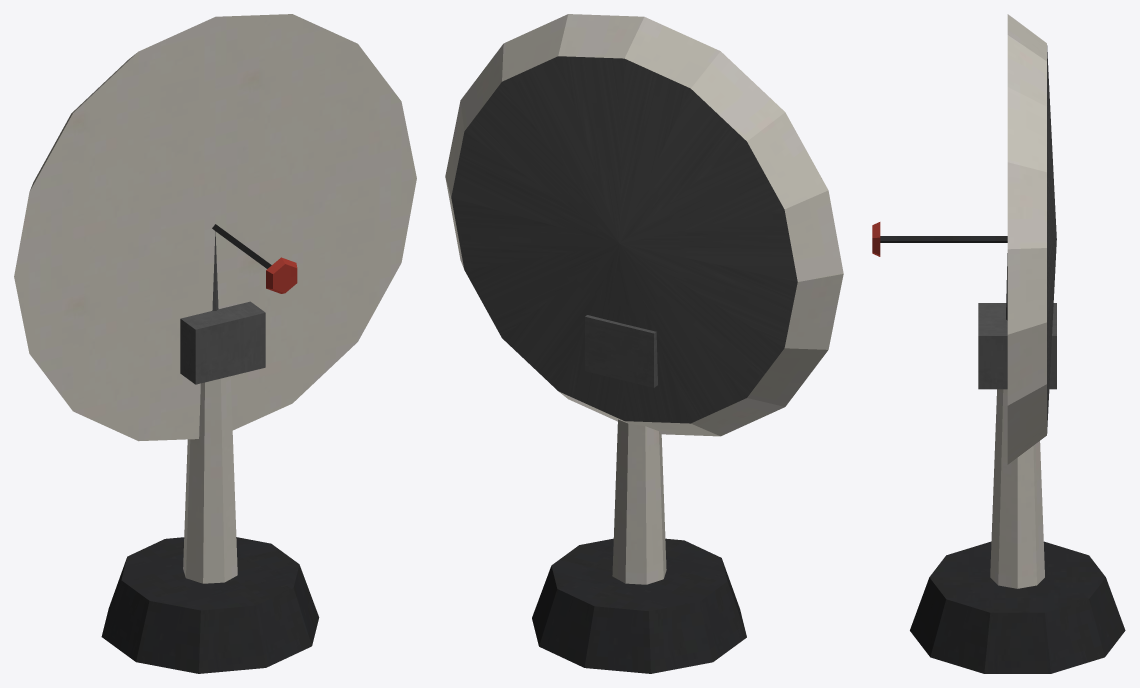
File: radar_dish_01.glb
The picture shows the model from 3 angles, left to right: view 1: azimuth 30°, elevation 25°; view 2: azimuth 150°, elevation 25°; view 3: azimuth 270°, elevation 25°; orthographic projection. The views are drawn at different scales.
Parts seen in each view (by area): view 1: radar_dish_01; view 2: radar_dish_01; view 3: radar_dish_01.
Part boxes in pixels (<box>): radar_dish_01: <box>14,14,416,673</box>; radar_dish_01: <box>445,14,843,673</box>; radar_dish_01: <box>872,14,1125,673</box>.
Size of the model in its own units: 2.3 by 3.35 by 1.29.
4 materials, 4 textured.
